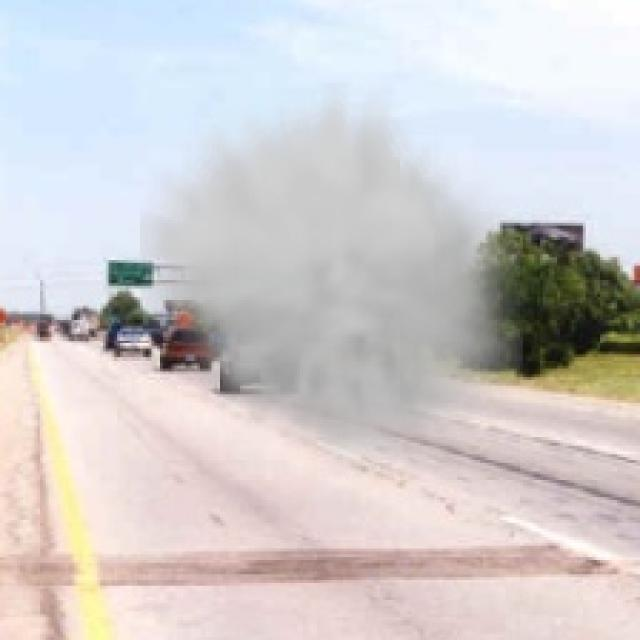smoke: (140, 83, 523, 477)
